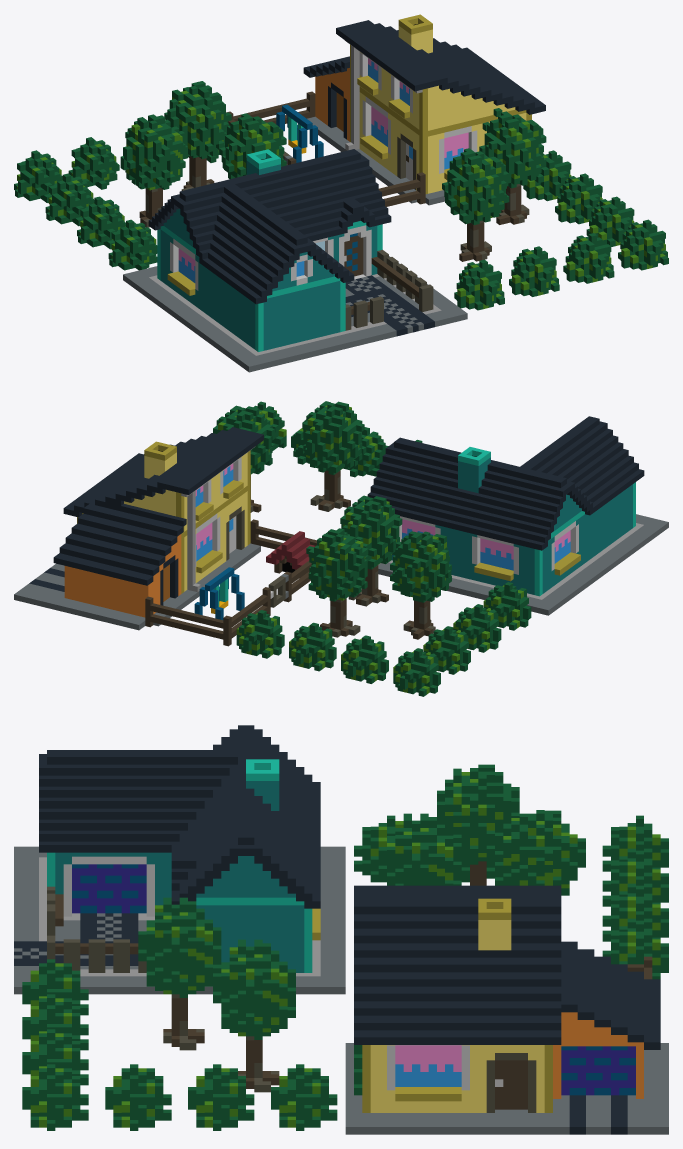
File: building_small_10_overtile.obj
The picture shows the model from 3 angles, top to bottom: view 1: azimuth 30°, elevation 25°; view 2: azimuth 150°, elevation 25°; view 3: azimuth 270°, elevation 25°; orthographic projection. The views are drawn at different scales.
Size of the model in its own units: 8 by 2.3 by 7.9.
Materials: 1 (1 with a texture image).
